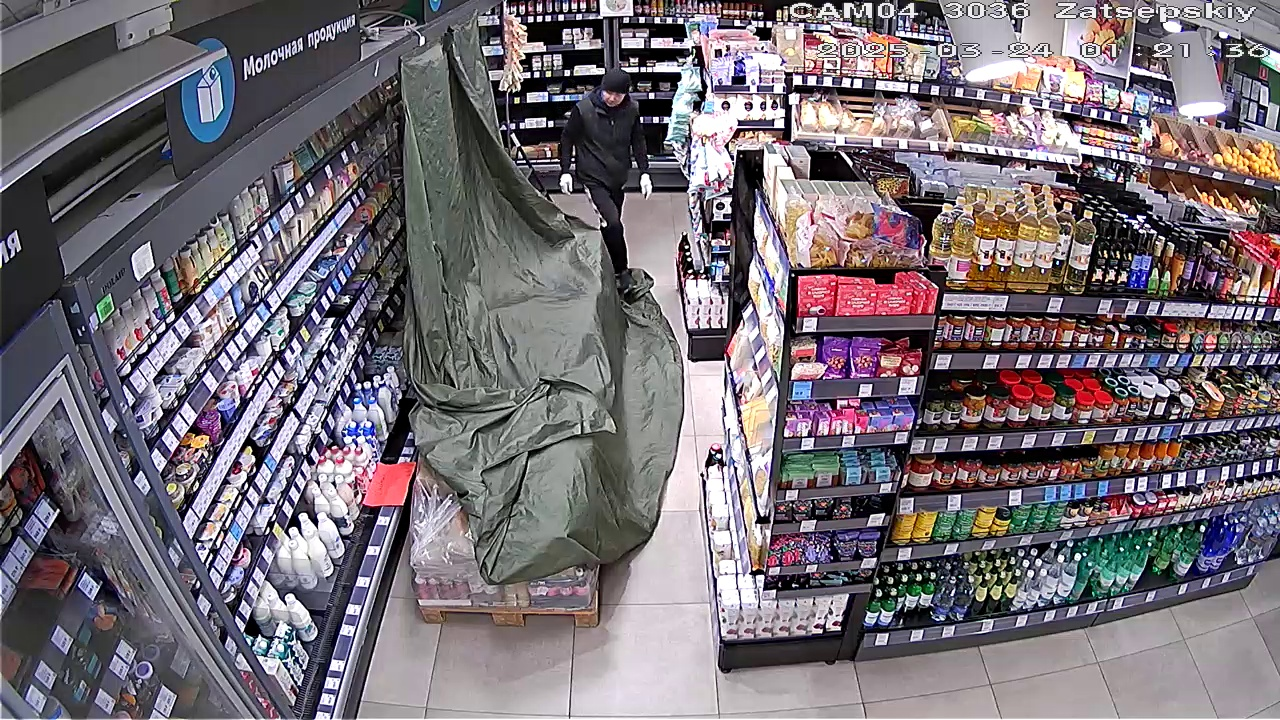Human: (546, 61, 656, 231)
dome: (386, 30, 687, 580)
